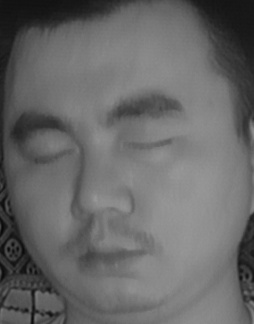blink: (124, 127, 175, 158), (30, 139, 74, 172)
mouth: (68, 224, 151, 280)
